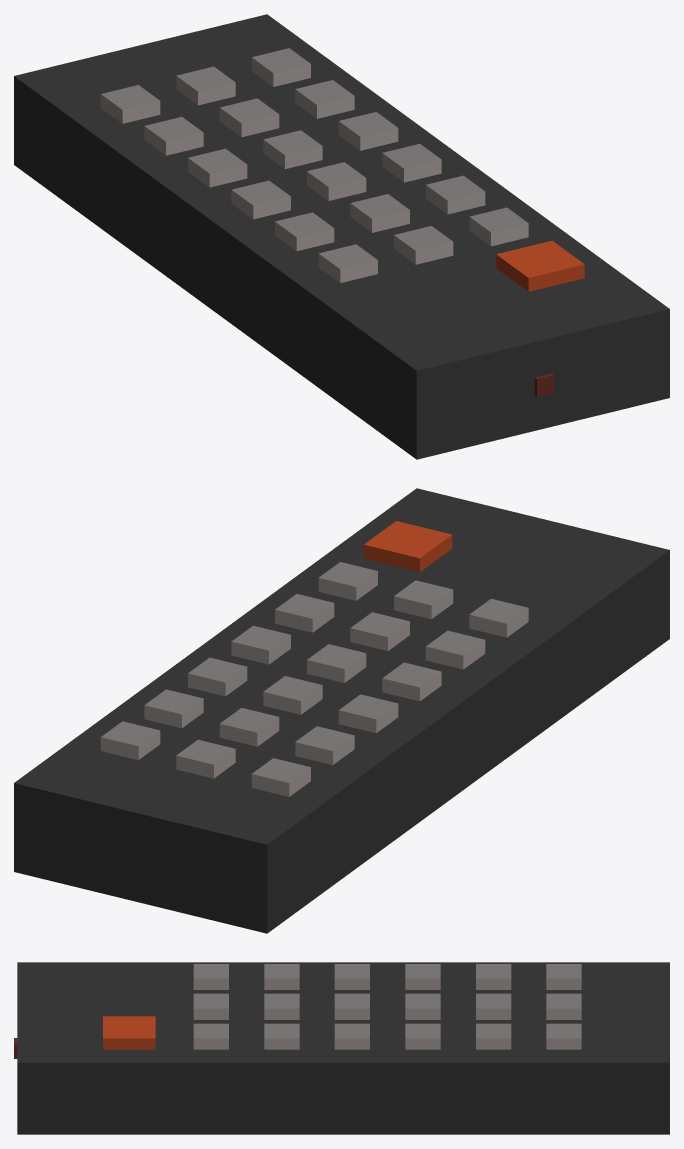
Rendered from remote.fbx.
3 renders of one model, top to bottom at view 1: azimuth 30°, elevation 25°; view 2: azimuth 150°, elevation 25°; view 3: azimuth 270°, elevation 25°, orthographic. The views are drawn at different scales.
Visible parts, largest first — view 1: Remote; view 2: Remote; view 3: Remote.
Part boxes in pixels (x1,y1,x2,y2): Remote: [14, 14, 669, 459]; Remote: [14, 488, 669, 933]; Remote: [14, 962, 669, 1134].
Bounding box in the file's own units: 37.19 × 13.43 × 5.21.
